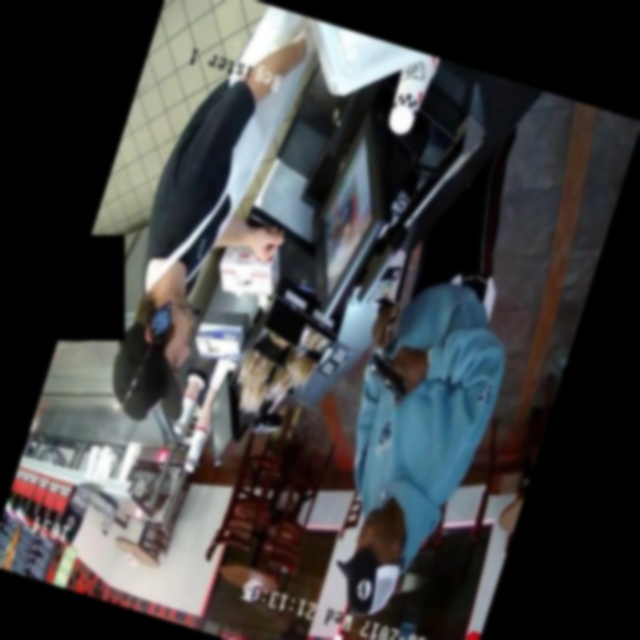gun: (346, 338, 434, 418)
